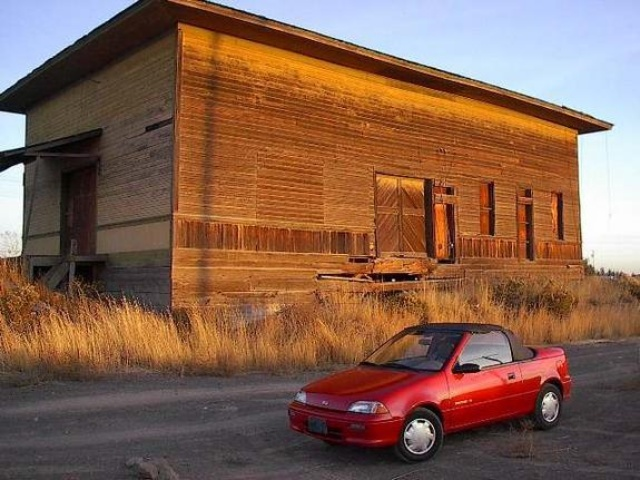Xe_hoi: (287, 319, 576, 461)
